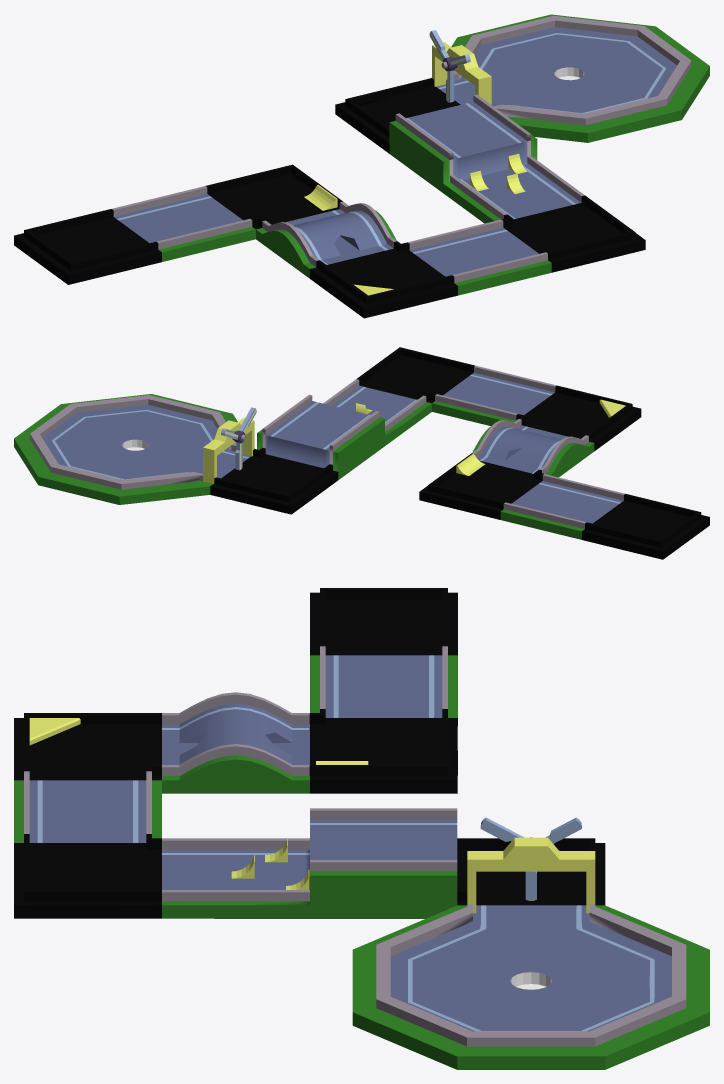
The model's file is Pista4Dificil.fbx.
3 views of the same model, one above another, from view 1: azimuth 30°, elevation 25°; view 2: azimuth 150°, elevation 25°; view 3: azimuth 270°, elevation 25° (orthographic). The views are drawn at different scales.
Visible parts, largest first — view 1: Cylinder007, Cylinder007.001, Box028, Cylinder007.002, Cylinder011, Cube; view 2: Cylinder007, Cylinder007.001, Box028, Cylinder007.002, Cylinder011, Cube; view 3: Cylinder007, Cylinder007.001, Box028, Cylinder007.002, Cylinder011, Object001.
Boxes of the visible parts, box(x1,y1,x2,y2) form: Cylinder007: box(14, 14, 709, 318); Cylinder007.001: box(24, 15, 691, 304); Box028: box(432, 42, 491, 104); Cylinder007.002: box(395, 94, 530, 159); Cylinder011: box(429, 30, 470, 102); Cube: box(304, 184, 337, 210); Cylinder007: box(14, 355, 709, 559); Cylinder007.001: box(30, 347, 701, 547); Box028: box(203, 418, 254, 483); Cylinder007.002: box(262, 394, 379, 451); Cylinder011: box(221, 407, 256, 470); Cube: box(456, 453, 485, 475); Cylinder007: box(14, 592, 709, 1069); Cylinder007.001: box(24, 588, 686, 1046); Box028: box(467, 837, 595, 913); Cylinder007.002: box(310, 808, 457, 871); Cylinder011: box(480, 817, 581, 900); Object001: box(29, 718, 80, 745).
Bounding box in the file's own units: 374 × 36.11 × 237.
